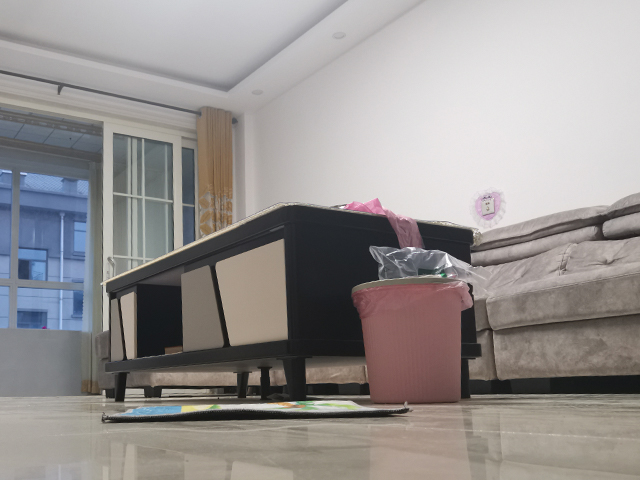carpet: (99, 398, 415, 423)
curtain: (78, 160, 106, 398), (192, 101, 236, 239)
sofa: (469, 189, 640, 397)
table: (96, 199, 487, 404)
trashcan: (348, 274, 475, 407)
